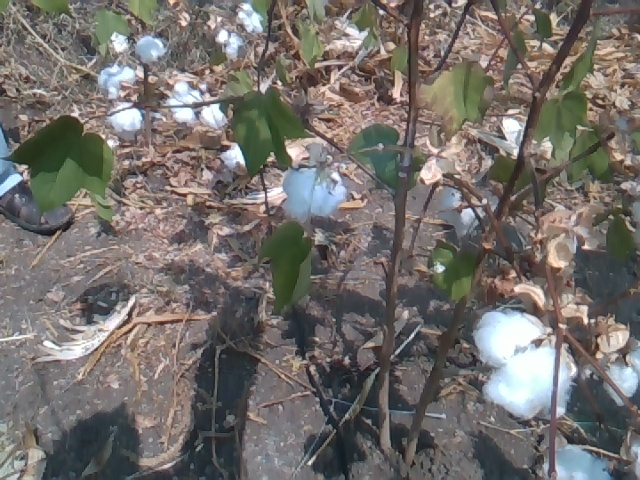cotton: (466, 298, 577, 421), (280, 148, 357, 228), (162, 79, 221, 133), (605, 325, 640, 416), (532, 441, 615, 479), (437, 186, 490, 233), (217, 133, 267, 180), (87, 65, 144, 101), (104, 95, 148, 141), (216, 26, 247, 67), (237, 4, 273, 38), (134, 33, 174, 63)
